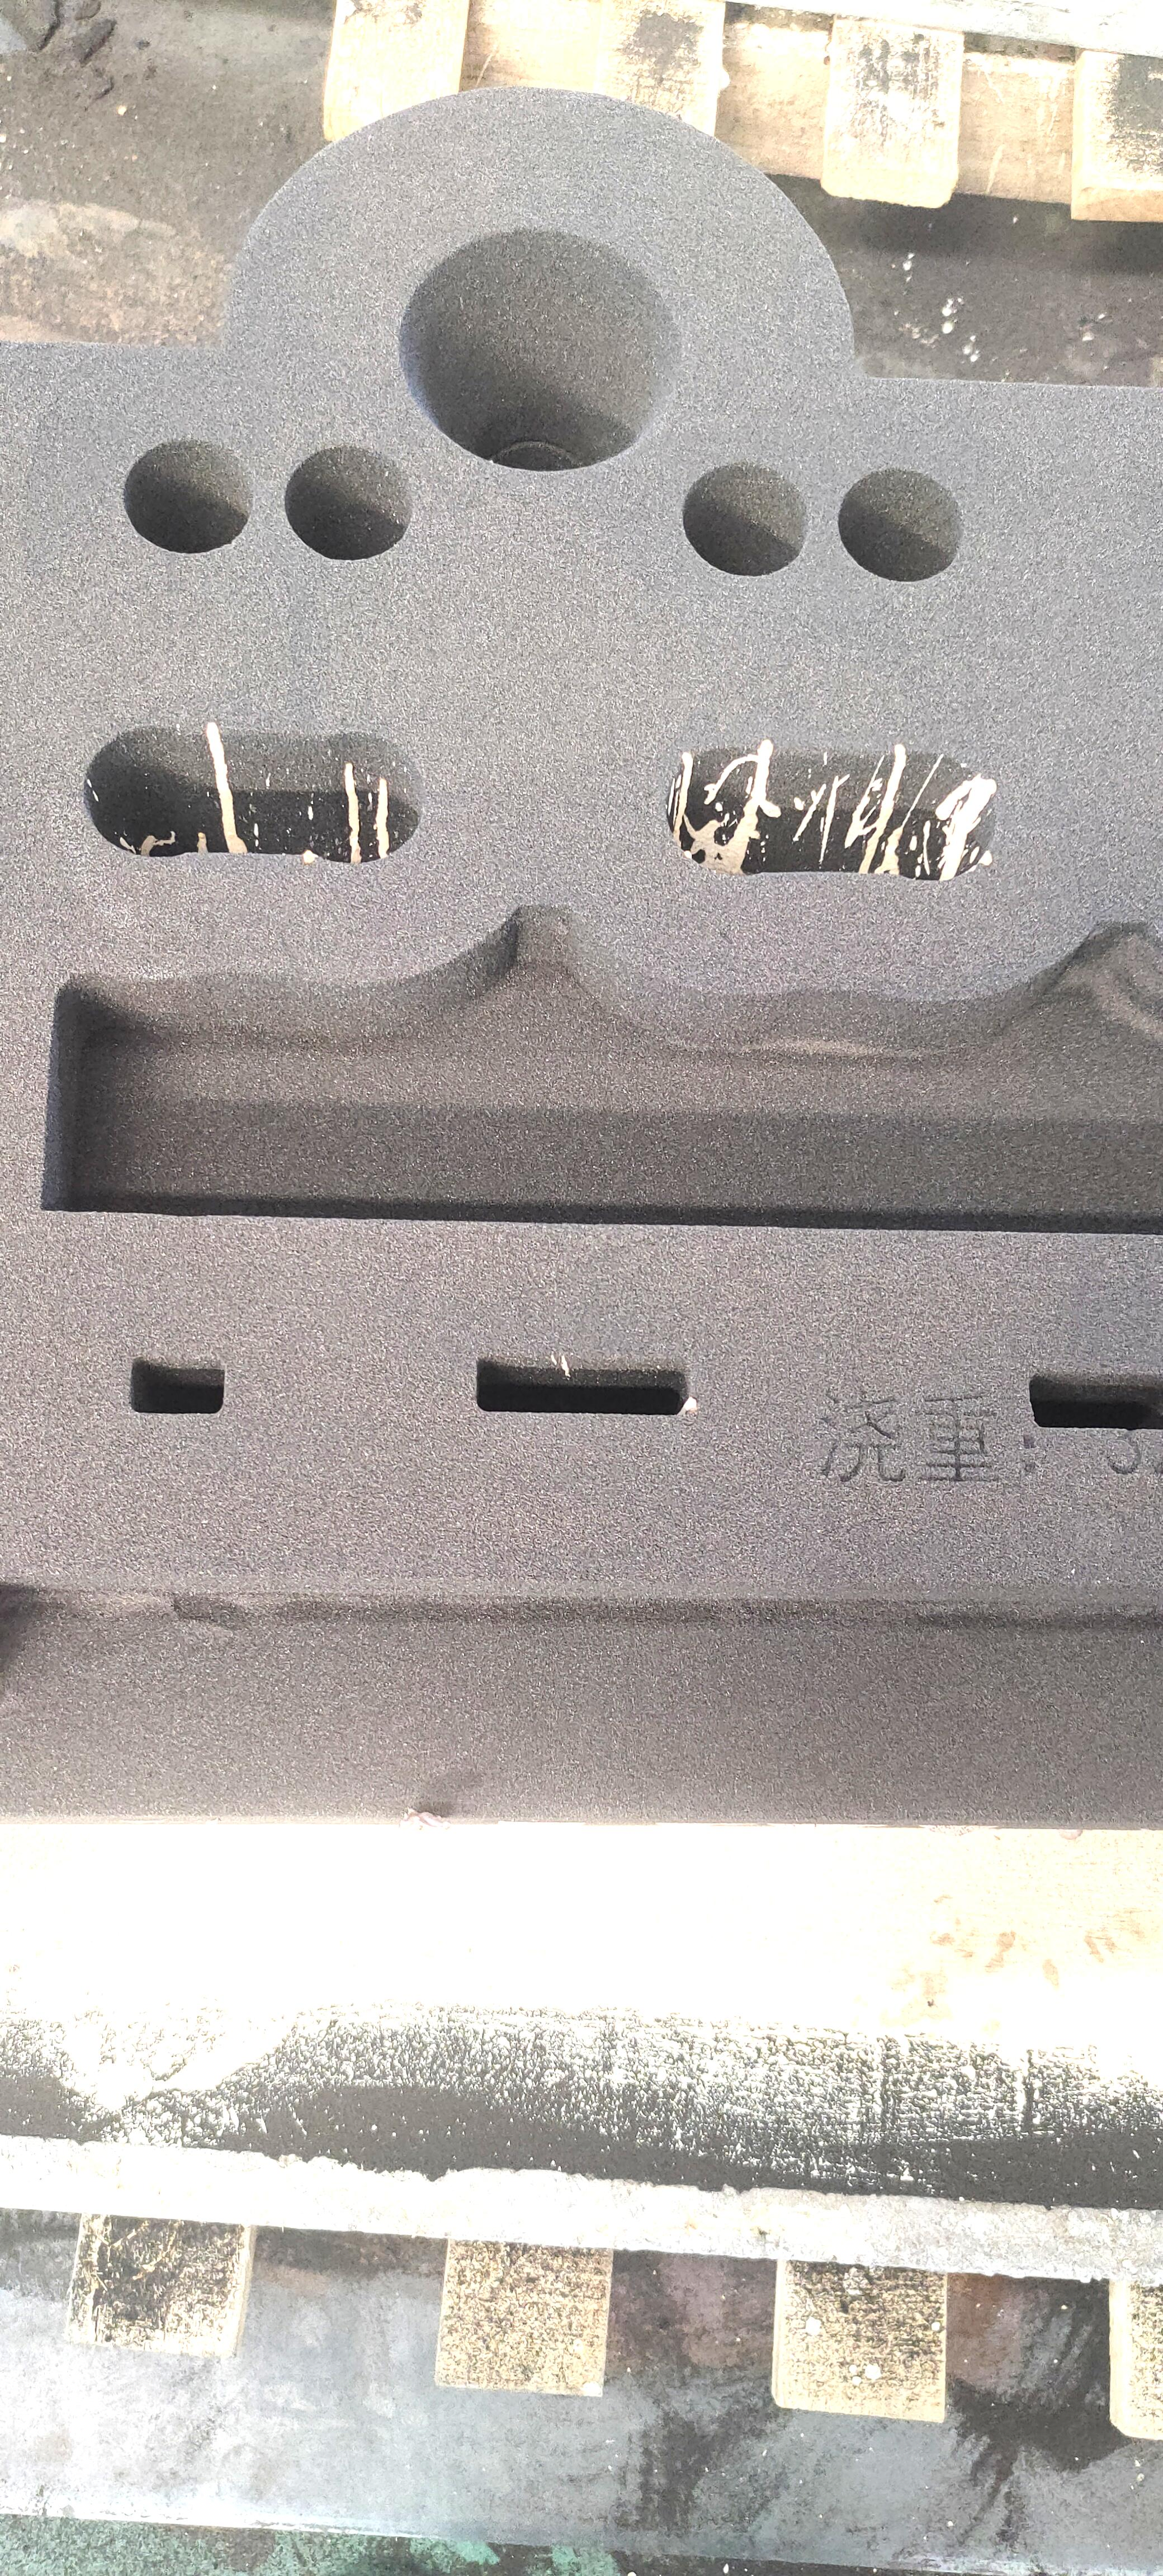pouring hole: (396, 230, 685, 471)
